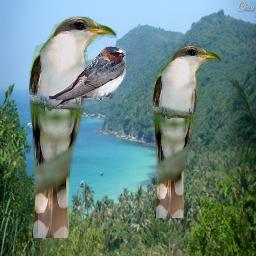Cuckoo: (27, 15, 117, 238), (151, 44, 221, 218)
Swallow: (49, 46, 126, 108)
